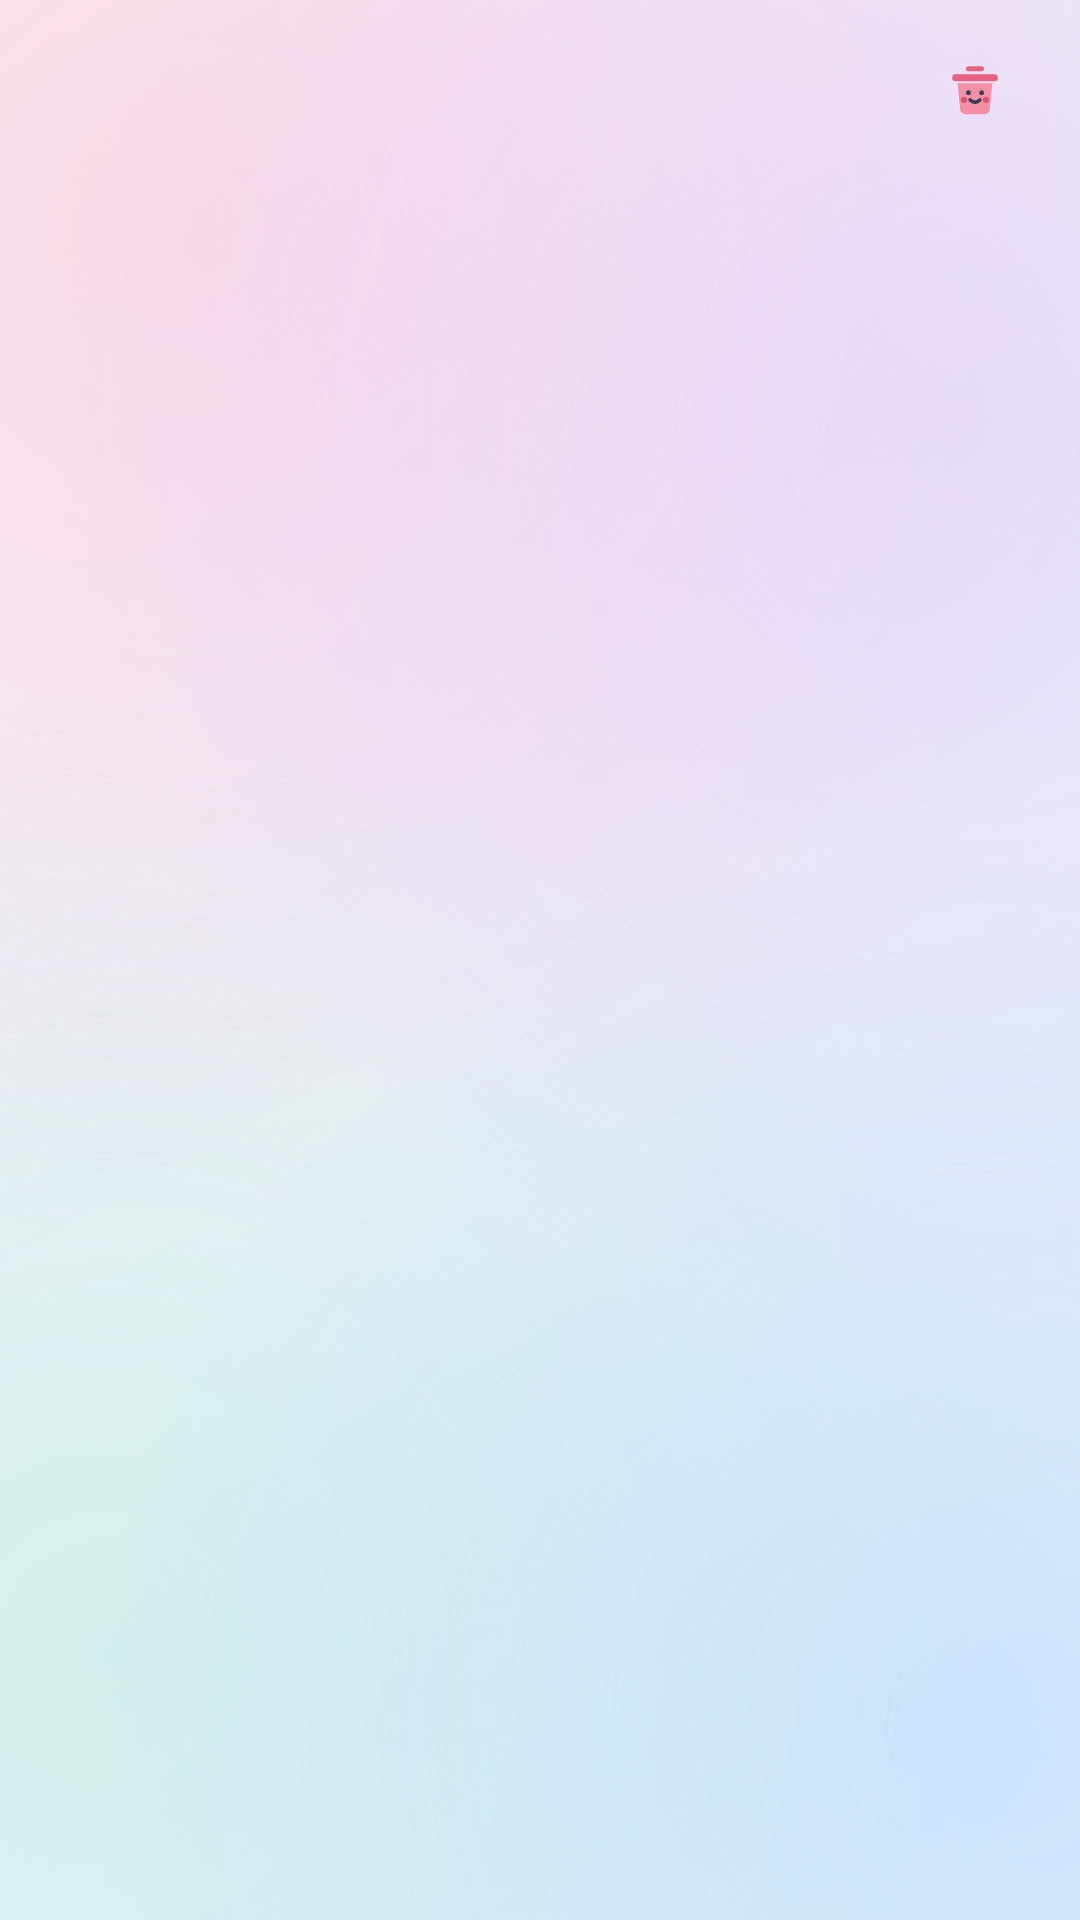

Screen size 1080*1920. Icon name, then its box in pixels as (x1, y1, x2, y2):
删除: (952, 66, 998, 114)
